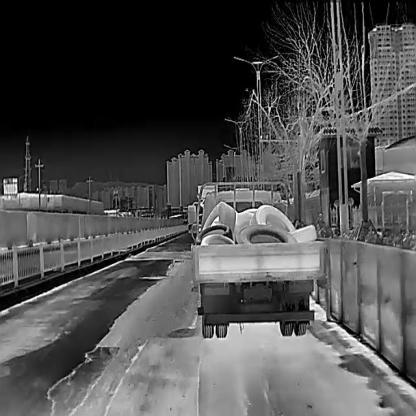car: (190, 182, 325, 338)
